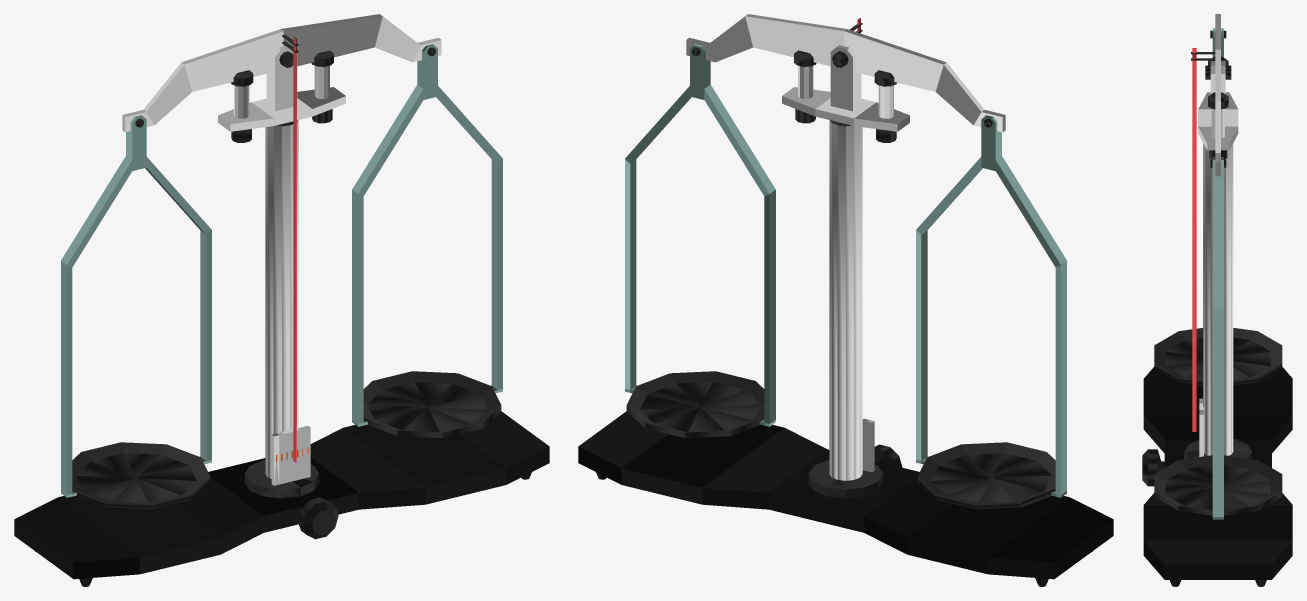
Rendered from weighs.fbx.
The picture shows the model from 3 angles, left to right: view 1: azimuth 30°, elevation 25°; view 2: azimuth 150°, elevation 25°; view 3: azimuth 270°, elevation 25°; orthographic projection. The views are drawn at different scales.
Parts seen in each view (by area): view 1: Weighs; view 2: Weighs; view 3: Weighs.
Part boxes in pixels (x1,y1,x2,y2): Weighs: (14,14,549,586); Weighs: (578,14,1113,586); Weighs: (1142,14,1292,586).
Size of the model in its own units: 44.39 by 43.31 by 13.43.
1 material, 1 textured.
